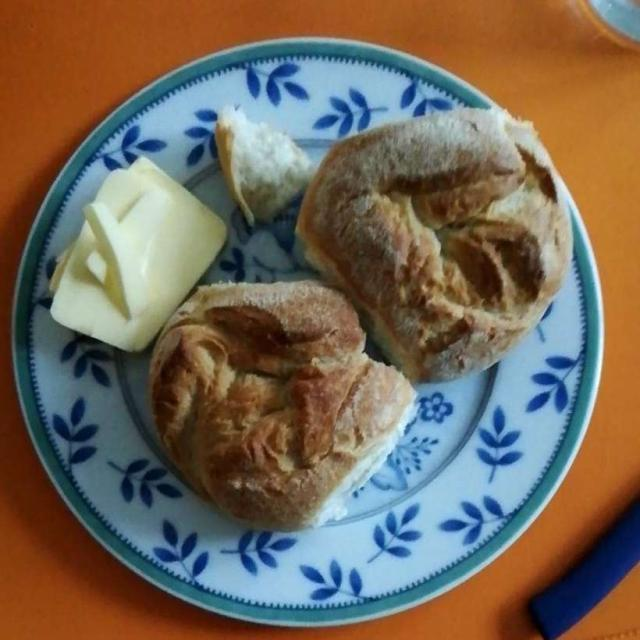bread: (141, 104, 570, 531)
butter: (53, 164, 224, 348)
